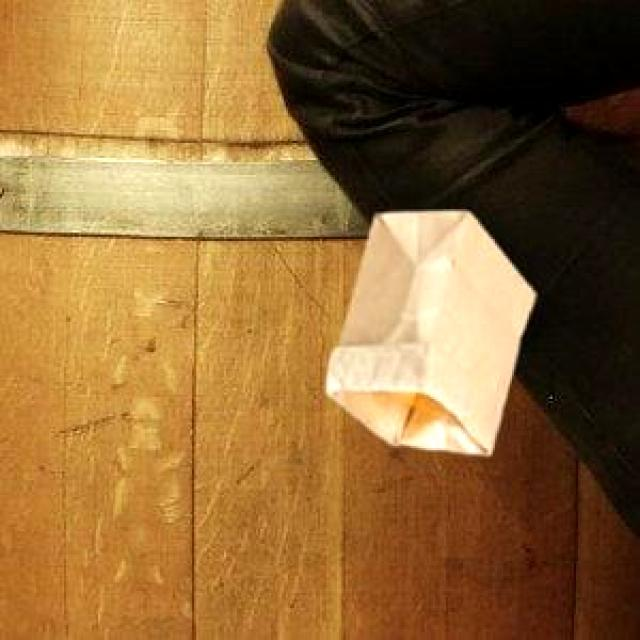Paper_Bag: (326, 208, 532, 451)
